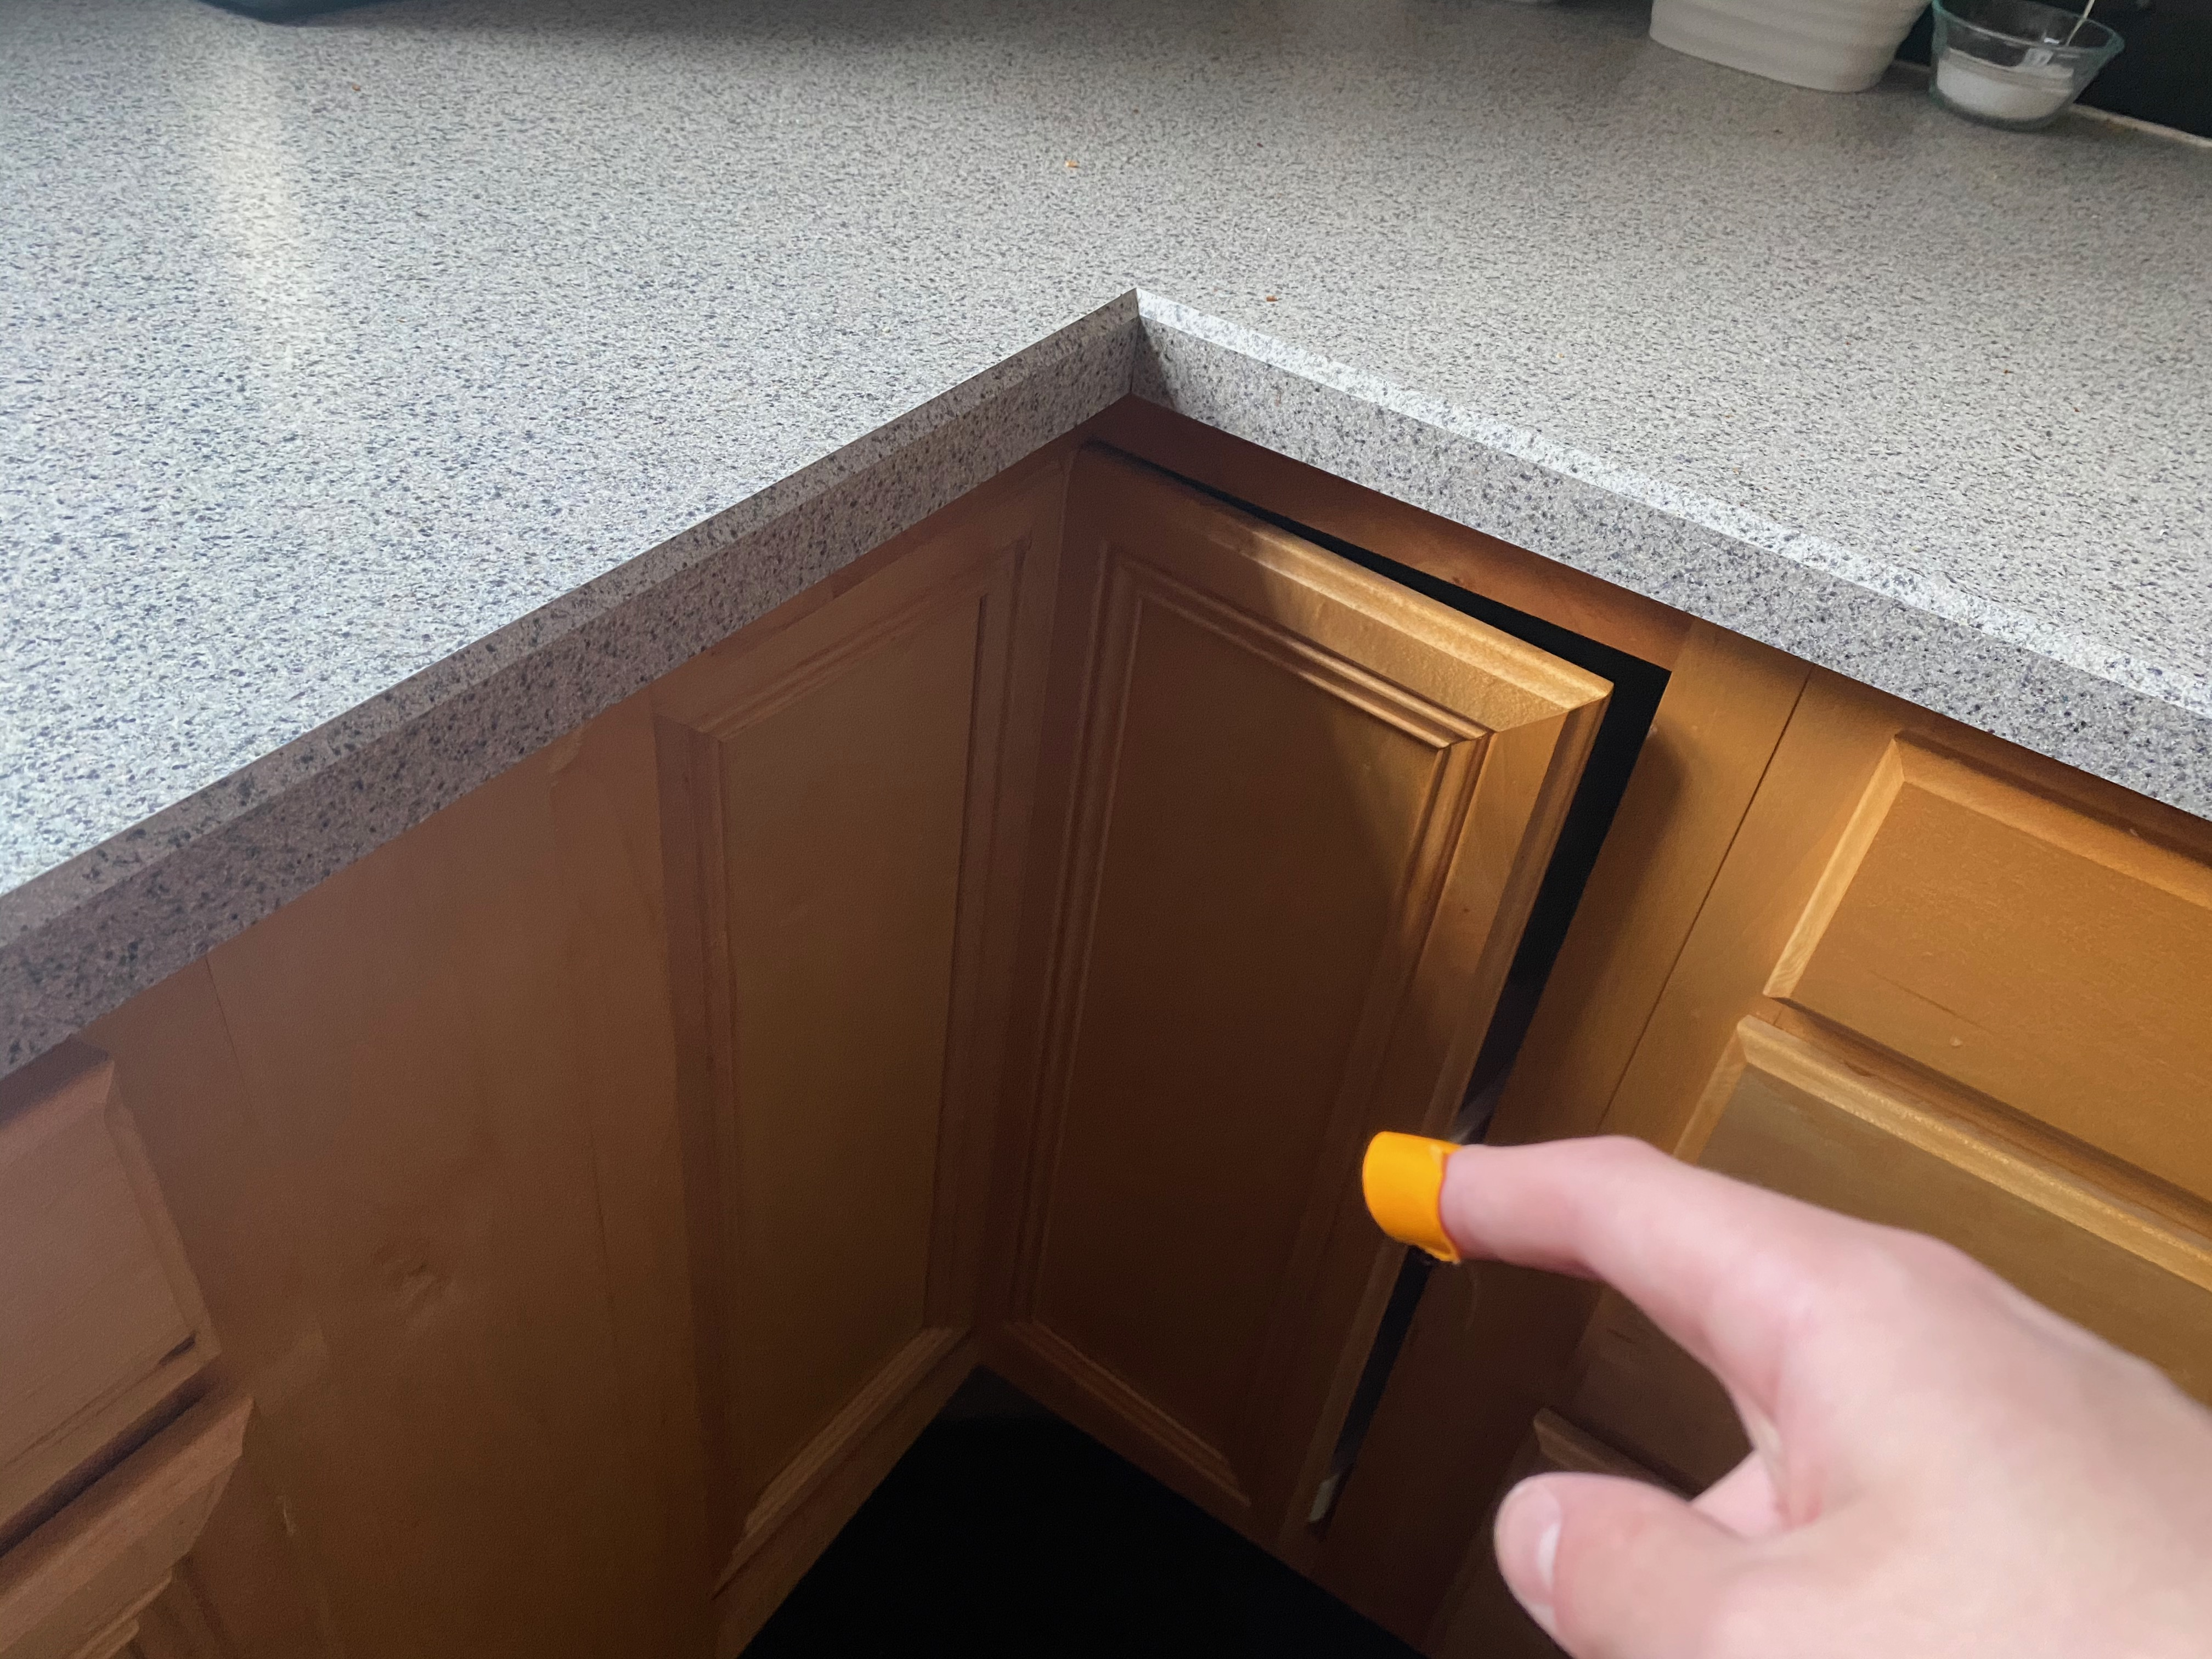fingertip: (1327, 1093, 1538, 1293)
